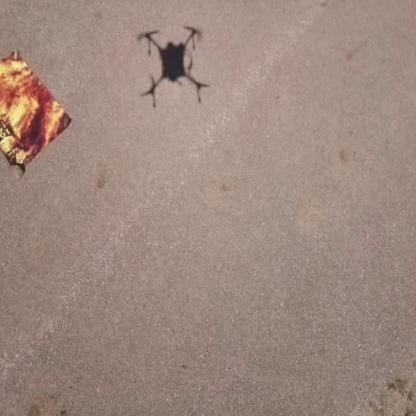fire-poster: (0, 47, 72, 178)
